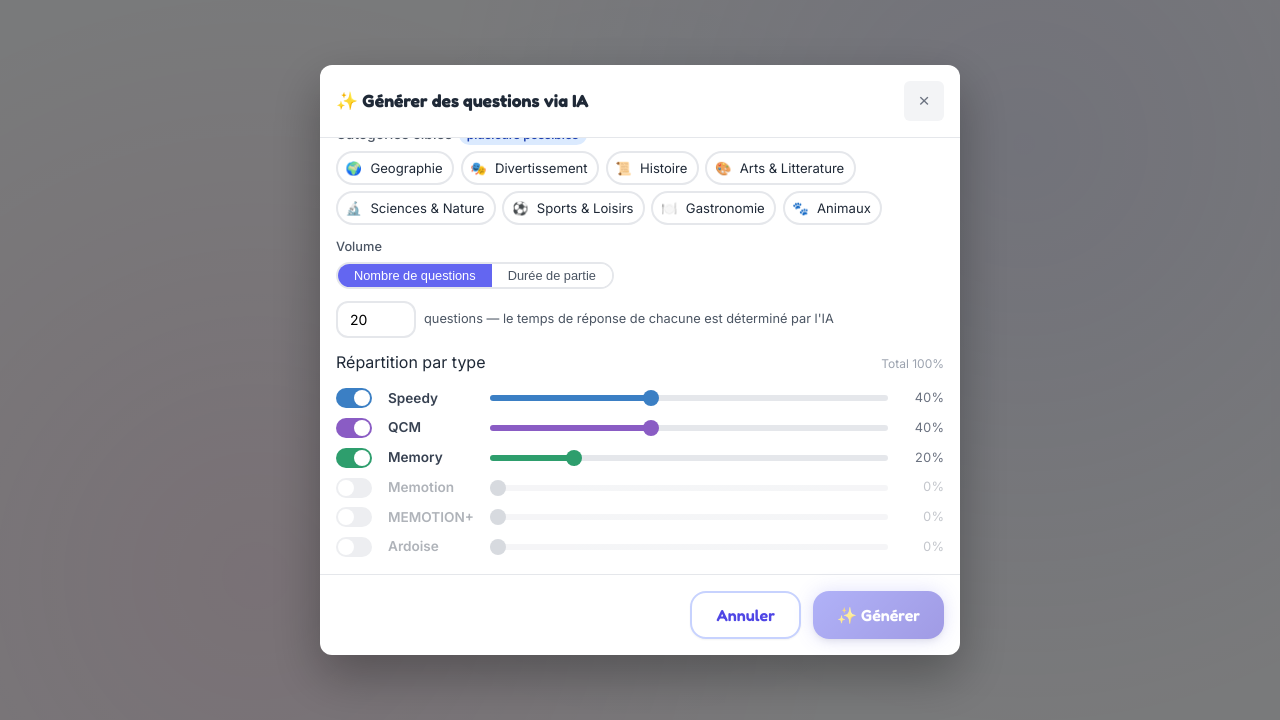
AIGenerateModal — rebalance des sliders (maquette §3, normatif) › toggling a type OFF redistributes its share proportionally to the remaining active types
(page scrolled)
What coordinates should you click on to do the following:
click the checkbox named "Activer QCM"
I would click on:
 (354, 428)
Its box is x1=336 y1=418 x2=372 y2=438.
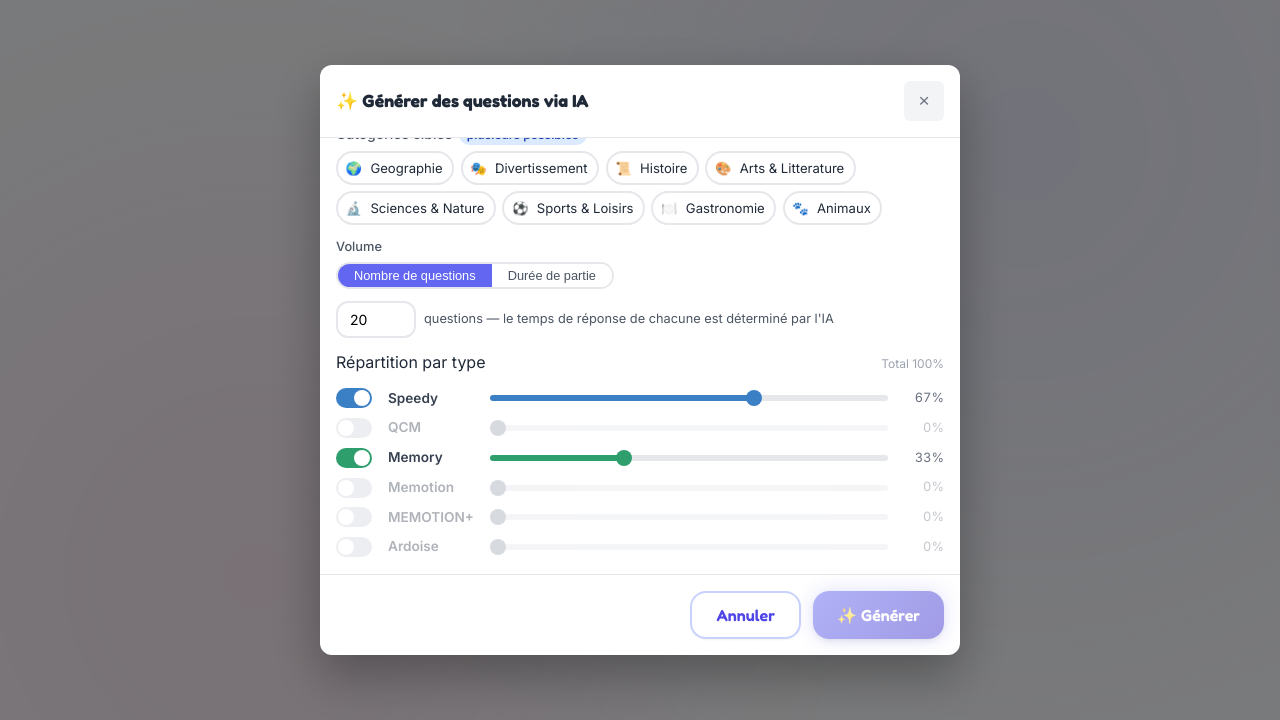
Now the slider next to "QCM" is disabled, box x1=490 y1=425 x2=888 y2=431
